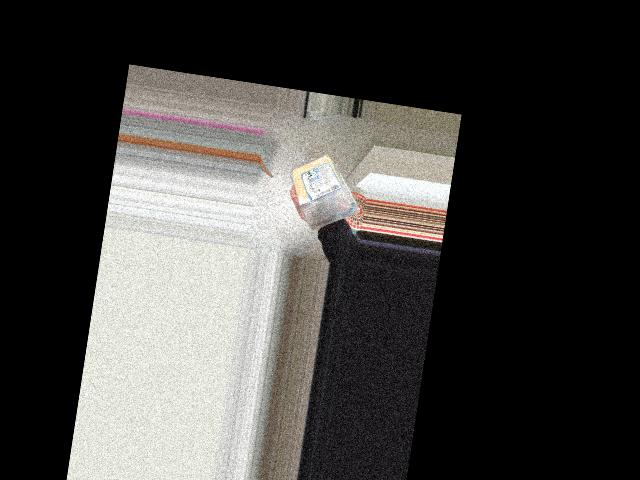cheese: (293, 148, 361, 225)
